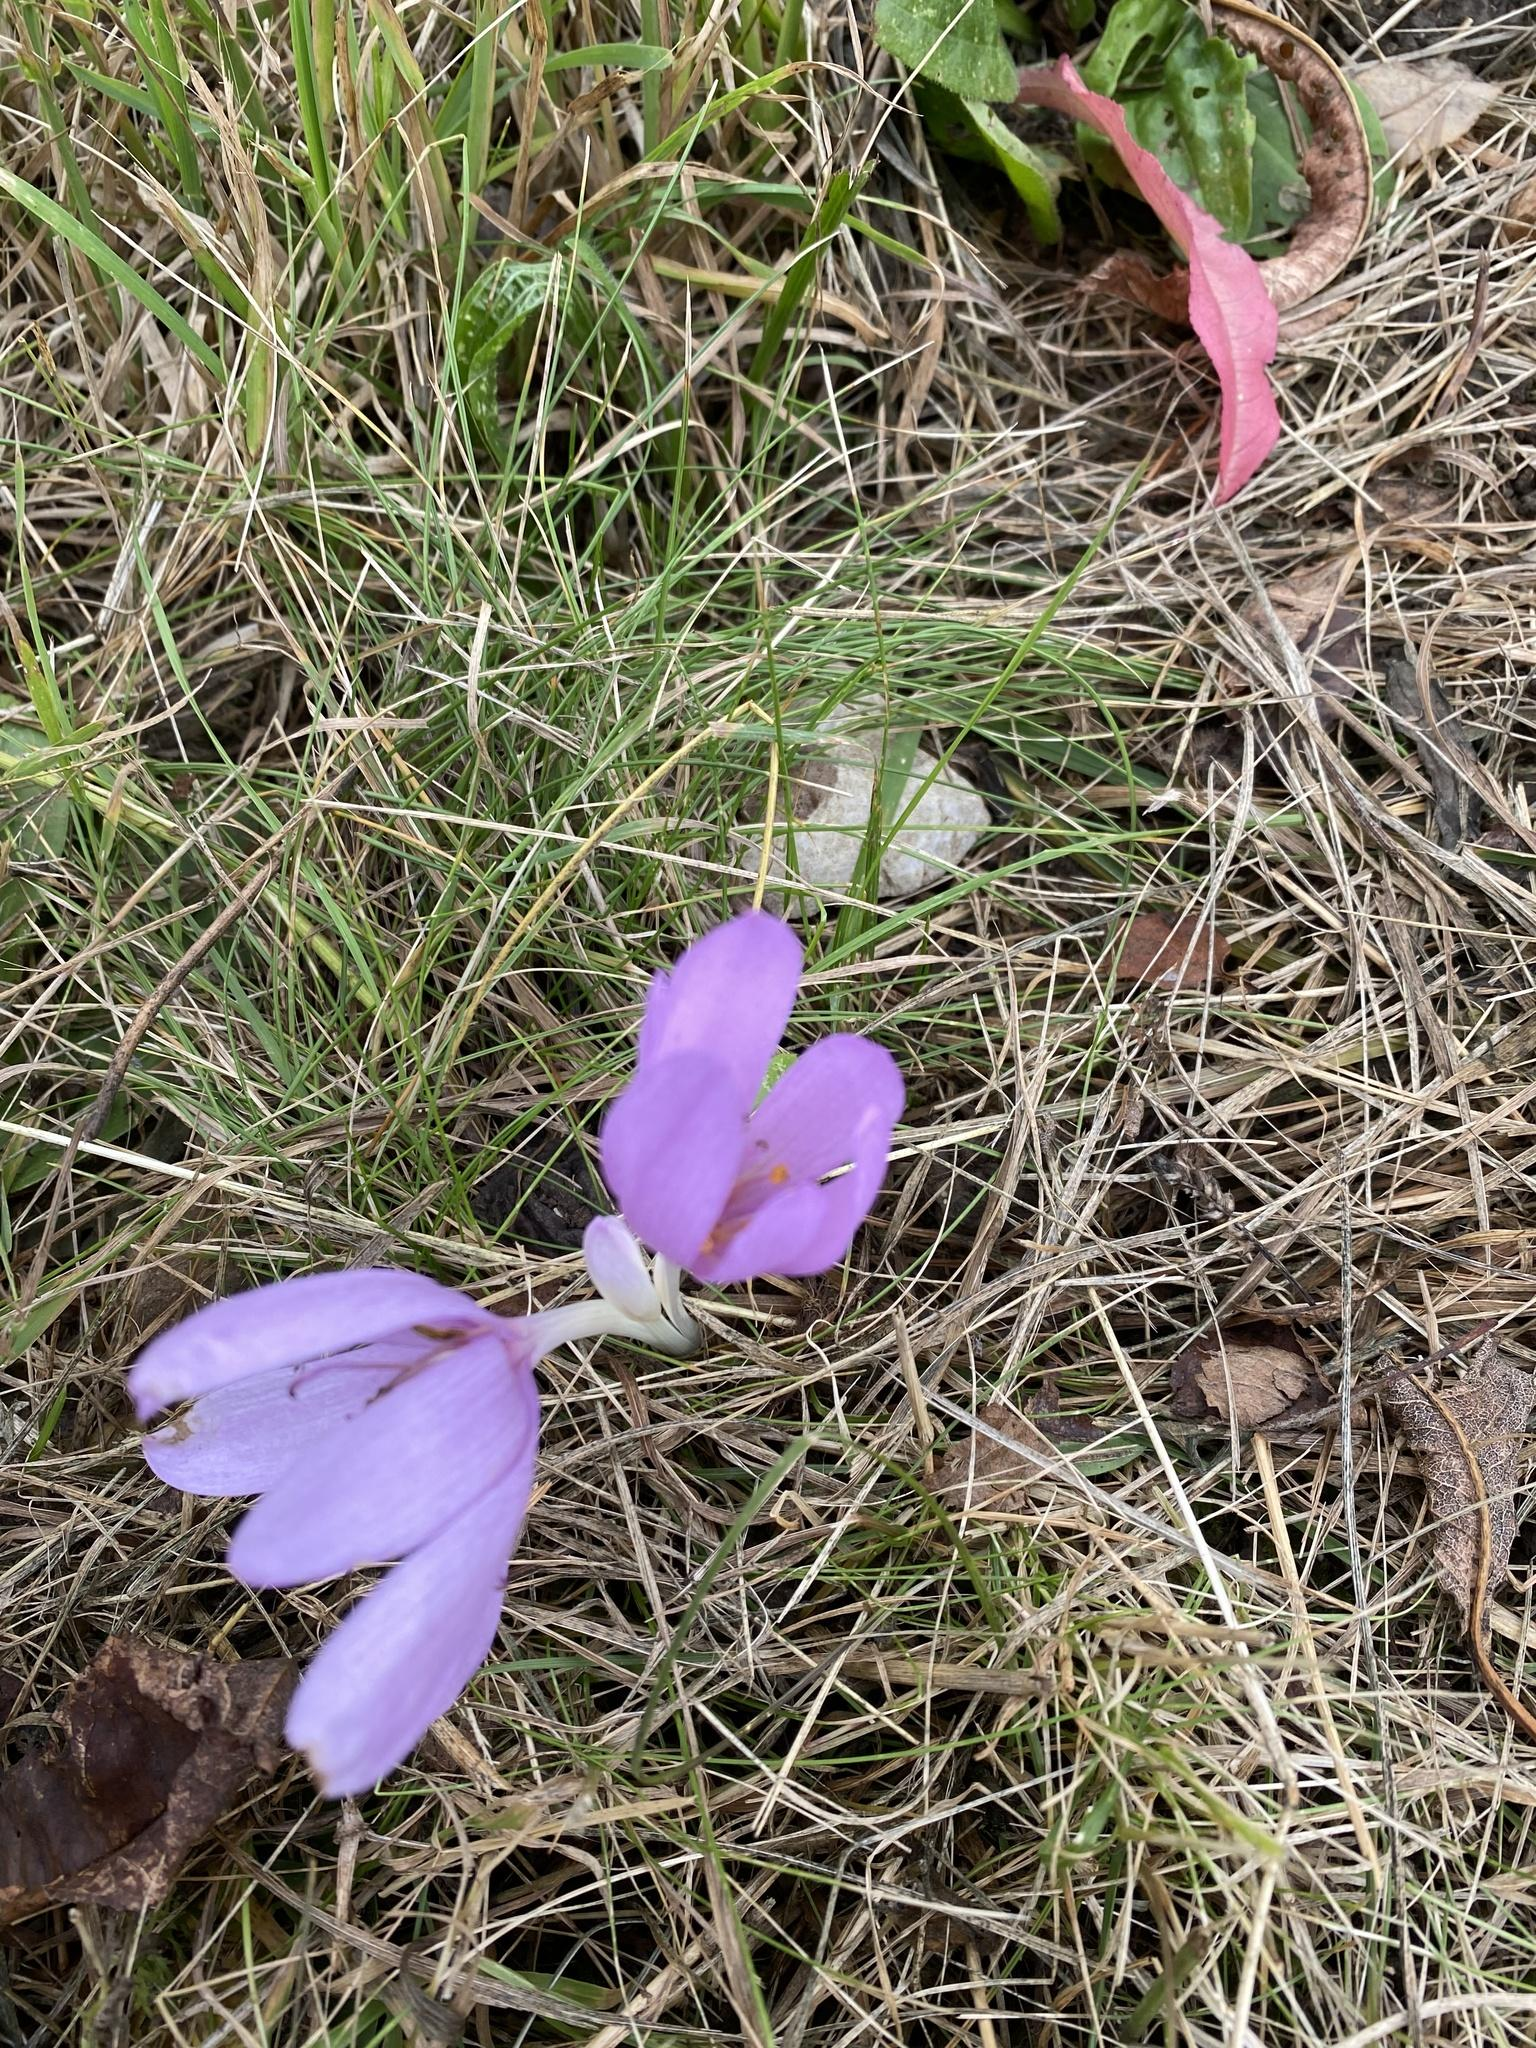Colchicum autumnale L: (115, 863, 960, 1790)
